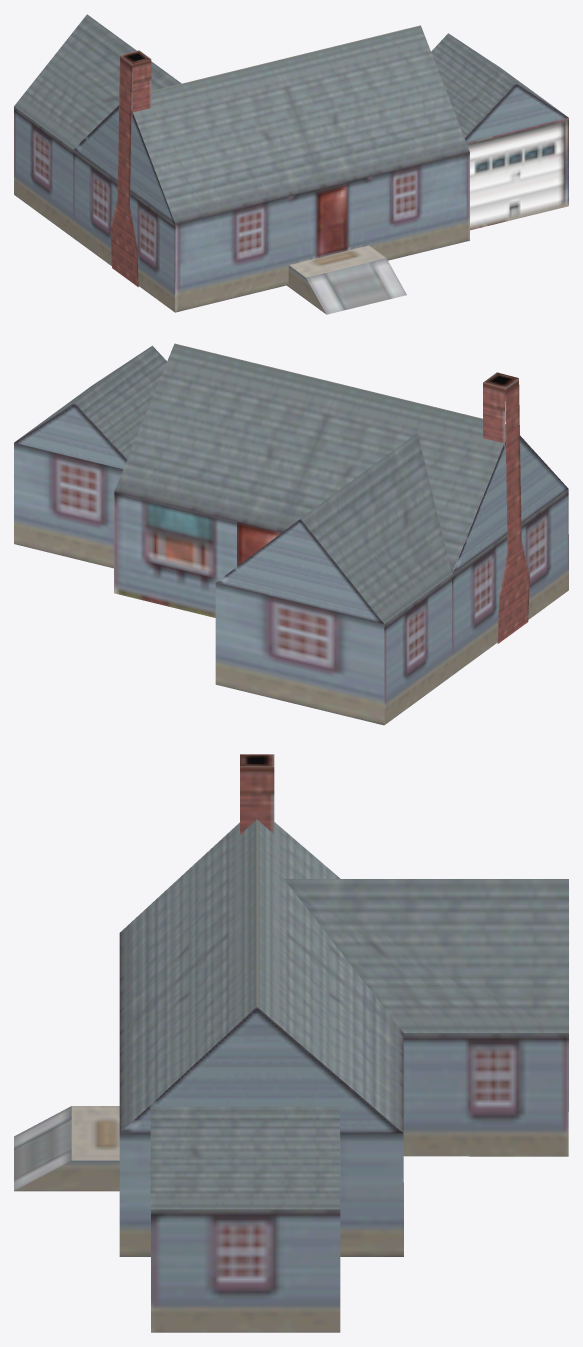
File: house04.glb
3 renders of one model, top to bottom at view 1: azimuth 30°, elevation 25°; view 2: azimuth 150°, elevation 25°; view 3: azimuth 270°, elevation 25°, orthographic. The views are drawn at different scales.
Parts seen in each view (by area): view 1: house04; view 2: house04; view 3: house04.
Part boxes in pixels (x1=…): house04: x1=14, y1=14, x2=568, y2=314; house04: x1=14, y1=343, x2=568, y2=725; house04: x1=14, y1=754, x2=568, y2=1332.
Bounding box in the file's own units: 2349 × 1209 × 1989.
Materials: 3 (3 with a texture image).
